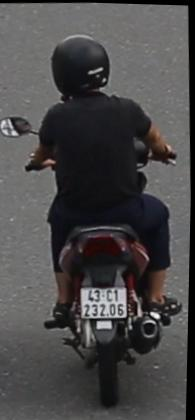LP: (79, 282, 130, 324)
helmet: (47, 28, 115, 109)
